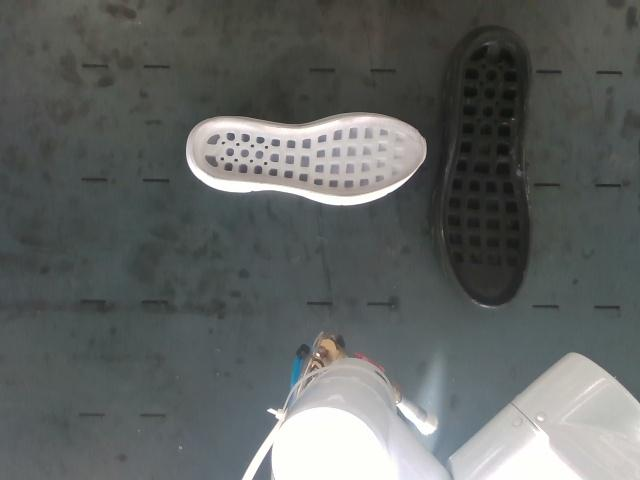shoes: (443, 30, 530, 306), (192, 116, 425, 196)
